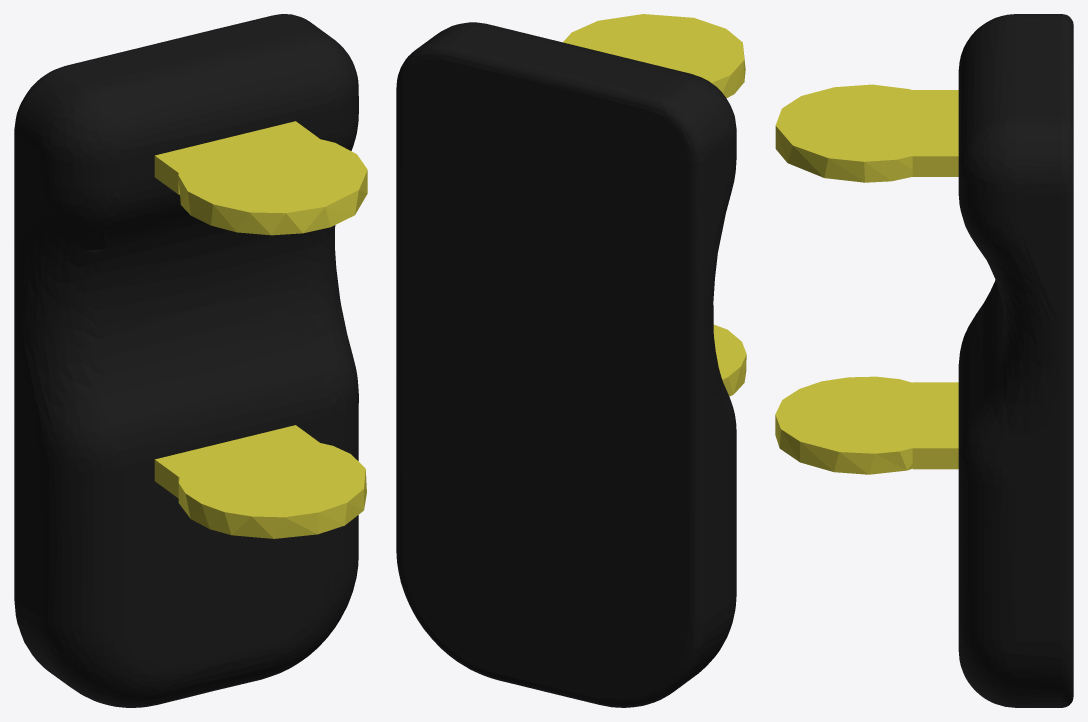
Rendered from foot_dexter_collision.obj.
3 renders of one model, left to right at view 1: azimuth 30°, elevation 25°; view 2: azimuth 150°, elevation 25°; view 3: azimuth 270°, elevation 25°, orthographic. The views are drawn at different scales.
Visible parts, largest first — view 1: Body1:1, Body4, Body3, Body2, Body1; view 2: Body1:1, Body4, Body3; view 3: Body1:1, Body4, Body3, Body1, Body2.
Part boxes in pixels (left/top/right/bottom): Body1:1: left=14, top=14, right=358, bottom=707; Body4: left=178, top=133, right=367, bottom=235; Body3: left=178, top=437, right=366, bottom=538; Body2: left=154, top=121, right=319, bottom=194; Body1: left=154, top=425, right=319, bottom=498; Body1:1: left=396, top=22, right=736, bottom=707; Body4: left=563, top=14, right=745, bottom=98; Body3: left=713, top=324, right=746, bottom=396; Body1:1: left=958, top=14, right=1073, bottom=707; Body4: left=775, top=84, right=956, bottom=182; Body3: left=775, top=376, right=956, bottom=474; Body1: left=912, top=382, right=958, bottom=469; Body2: left=912, top=90, right=958, bottom=176.
Bounding box in the file's own units: 15 × 29 × 12.96.
